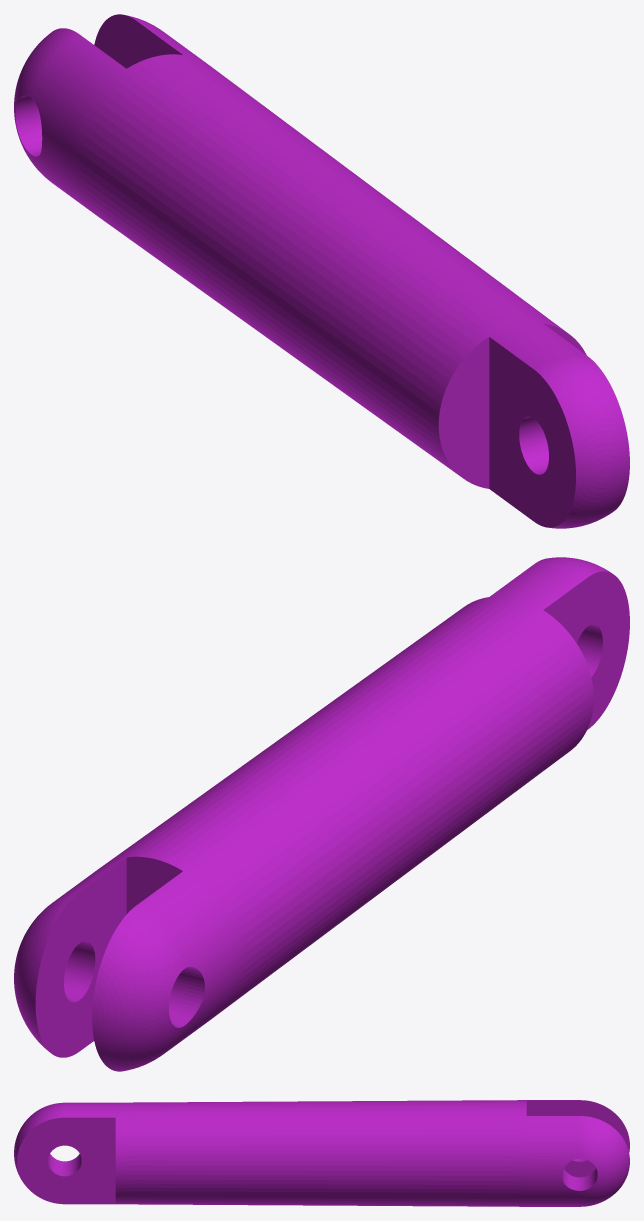
The picture shows the model from 3 angles, top to bottom: view 1: azimuth 30°, elevation 25°; view 2: azimuth 150°, elevation 25°; view 3: azimuth 270°, elevation 25°; orthographic projection. The views are drawn at different scales.
Parts seen in each view (by area): view 1: node; view 2: node; view 3: node.
Boxes of the visible parts, x1=… form: node: x1=14, y1=14, x2=629, y2=528; node: x1=14, y1=557, x2=629, y2=1071; node: x1=14, y1=1100, x2=629, y2=1206.
Size of the model in its own units: 0.078 by 0.078 by 0.4499.
